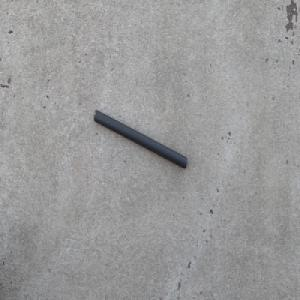LuggagePart: (93, 109, 187, 170)
